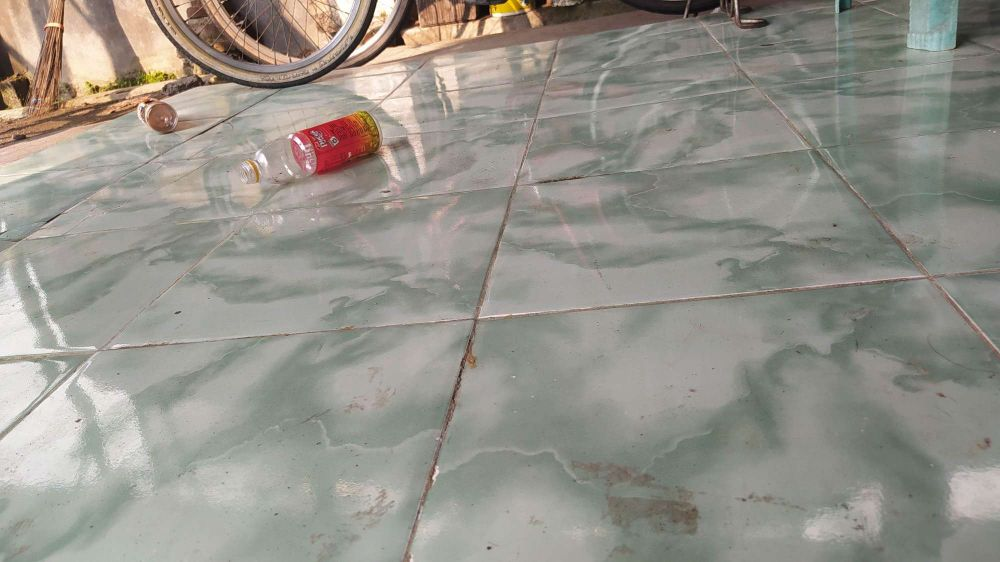botol: (233, 108, 394, 186), (119, 76, 182, 138)
